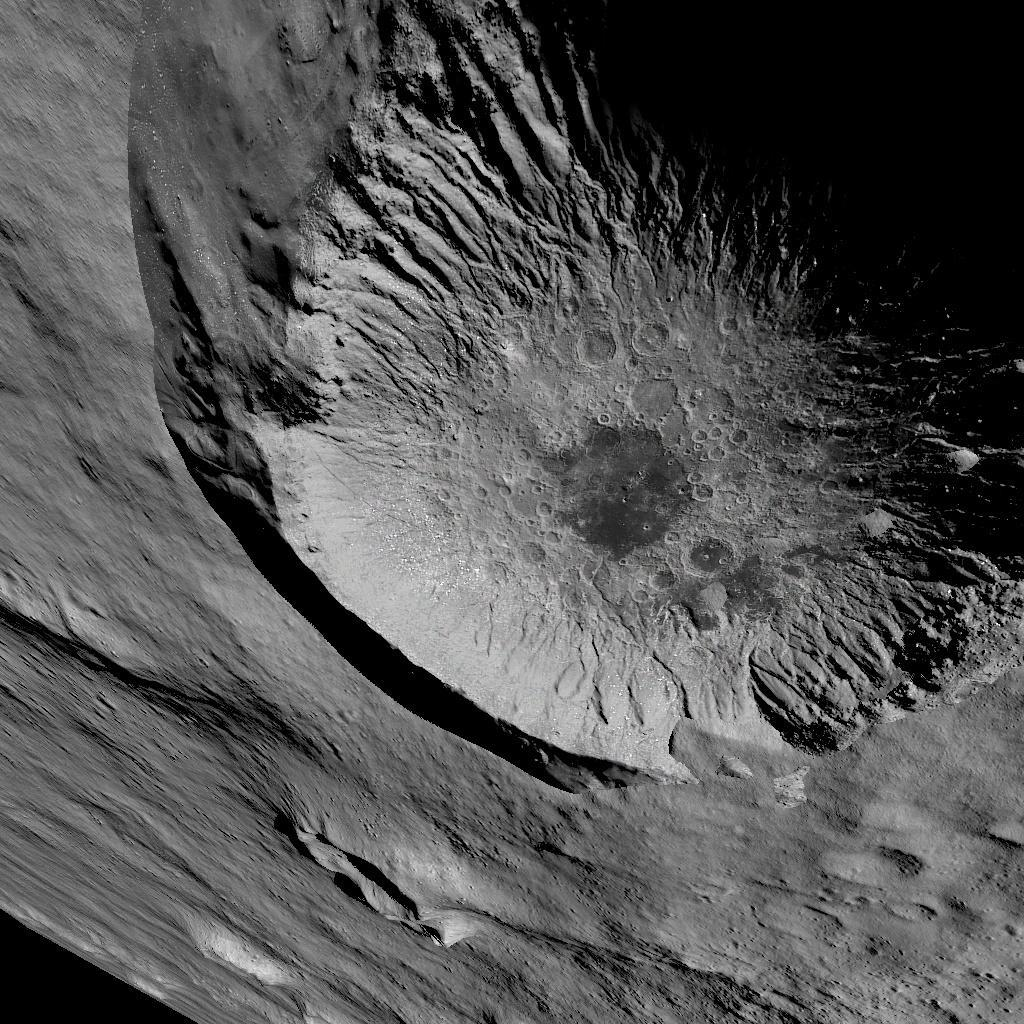Crater: (105, 0, 1024, 797), (260, 807, 436, 956)
Plan surface: (480, 824, 1019, 1022)
